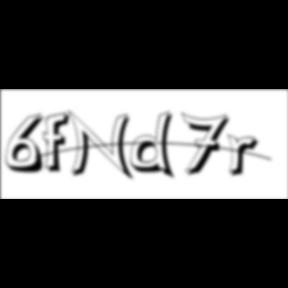6: (6, 112, 50, 176)
7: (180, 111, 235, 179)
N: (67, 109, 137, 183)
d: (131, 110, 181, 182)
f: (42, 111, 76, 175)
r: (227, 134, 265, 180)
